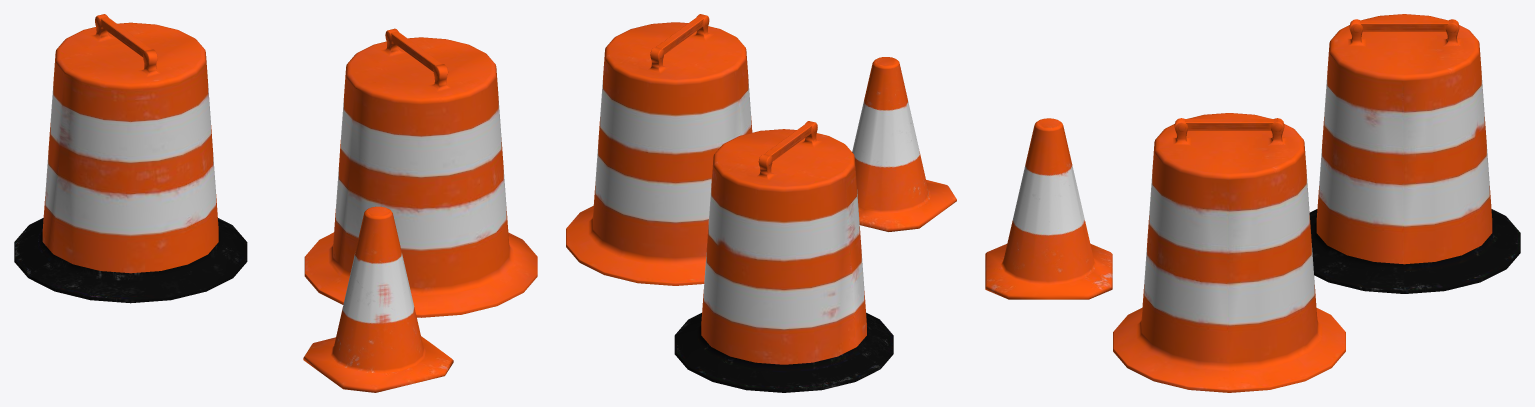
Rendered from o3_cantiere_03.glb.
The picture shows the model from 3 angles, left to right: view 1: azimuth 30°, elevation 25°; view 2: azimuth 150°, elevation 25°; view 3: azimuth 270°, elevation 25°; orthographic projection. The views are drawn at different scales.
Parts seen in each view (by area): view 1: sb_modello; view 2: sb_modello; view 3: sb_modello.
Part boxes in pixels (x1,y1,x2,y2): sb_modello: [14, 14, 537, 392]; sb_modello: [566, 14, 956, 392]; sb_modello: [985, 14, 1520, 392].
Bounding box in the file's own units: 1.31 × 0.68 × 1.49.
Materials: 3 (3 with a texture image).
